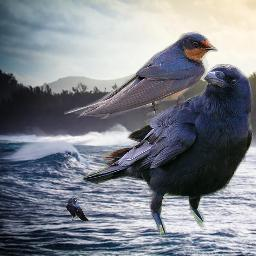Crow: (81, 64, 253, 237), (66, 197, 89, 222)
Swallow: (64, 31, 218, 119)
